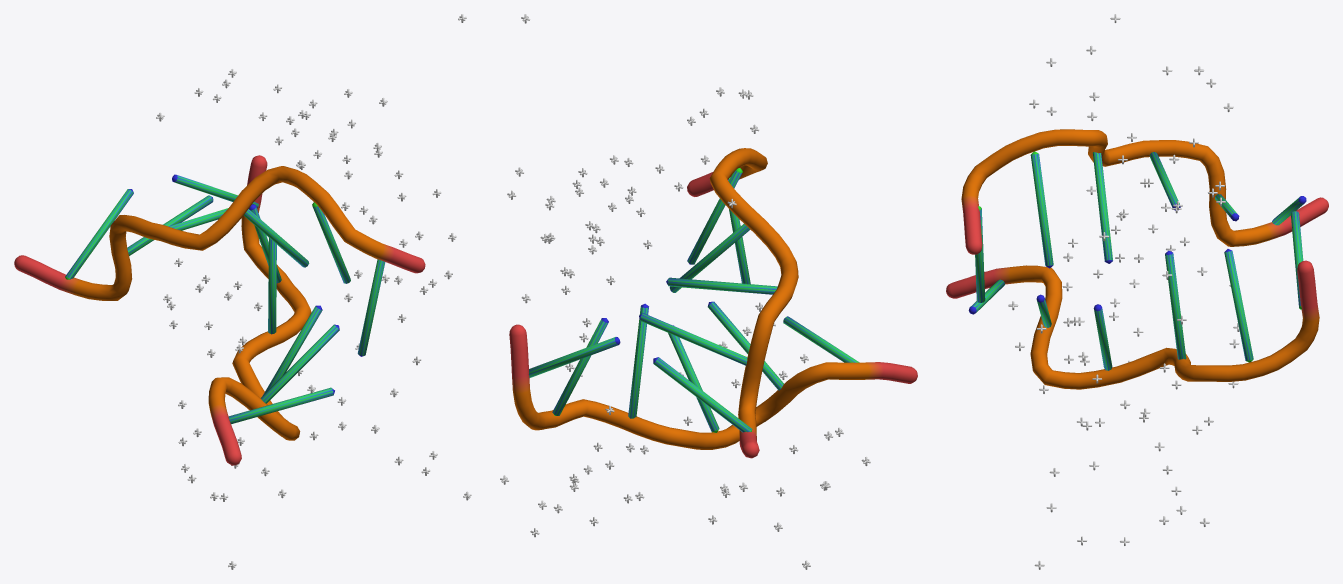
Rendered from A-DNA(B).fbx.
3 renders of one model, left to right at view 1: azimuth 30°, elevation 25°; view 2: azimuth 150°, elevation 25°; view 3: azimuth 270°, elevation 25°, orthographic. The views are drawn at different scales.
Visible parts, largest first — view 1: node-geom4, node-geom10, node-geom16, node-geom9, node-geom11, node-geom7, node-geom8, node-geom12, node-geom13, node-geom15, node-geom5; view 2: node-geom4, node-geom16, node-geom15, node-geom14, node-geom7, node-geom5, node-geom6, node-geom8, node-geom9, node-geom13, node-geom12, node-geom10 (+1 smaller); view 3: node-geom4, node-geom12, node-geom6, node-geom13, node-geom7, node-geom8, node-geom5, node-geom11, node-geom14.
Boxes of the visible parts, x1,y1,x2,y2 form: node-geom4: (14,155,425,465); node-geom10: (228,387,334,424); node-geom16: (65,189,133,279); node-geom9: (261,324,339,403); node-geom11: (357,259,385,356); node-geom7: (268,238,276,334); node-geom8: (262,305,322,395); node-geom12: (312,202,350,283); node-geom13: (243,209,309,267); node-geom15: (127,195,213,255); node-geom5: (172,174,258,208); node-geom4: (509,148,917,458); node-geom16: (653,357,752,432); node-geom15: (639,313,747,365); node-geom14: (666,277,777,294); node-geom7: (628,303,648,418); node-geom5: (529,337,620,377); node-geom6: (552,318,608,415); node-geom8: (668,325,719,432); node-geom9: (707,301,783,390); node-geom13: (669,224,750,292); node-geom12: (687,168,742,264); node-geom10: (783,316,859,362); node-geom4: (946,129,1328,389); node-geom12: (1030,151,1053,268); node-geom6: (1224,249,1253,362); node-geom13: (1092,152,1112,263); node-geom7: (1165,250,1186,359); node-geom8: (1093,304,1112,370); node-geom5: (1290,211,1303,309); node-geom11: (975,206,985,302); node-geom14: (1149,152,1180,210).
Size of the model in its own units: 2328 by 3166 by 2252.
